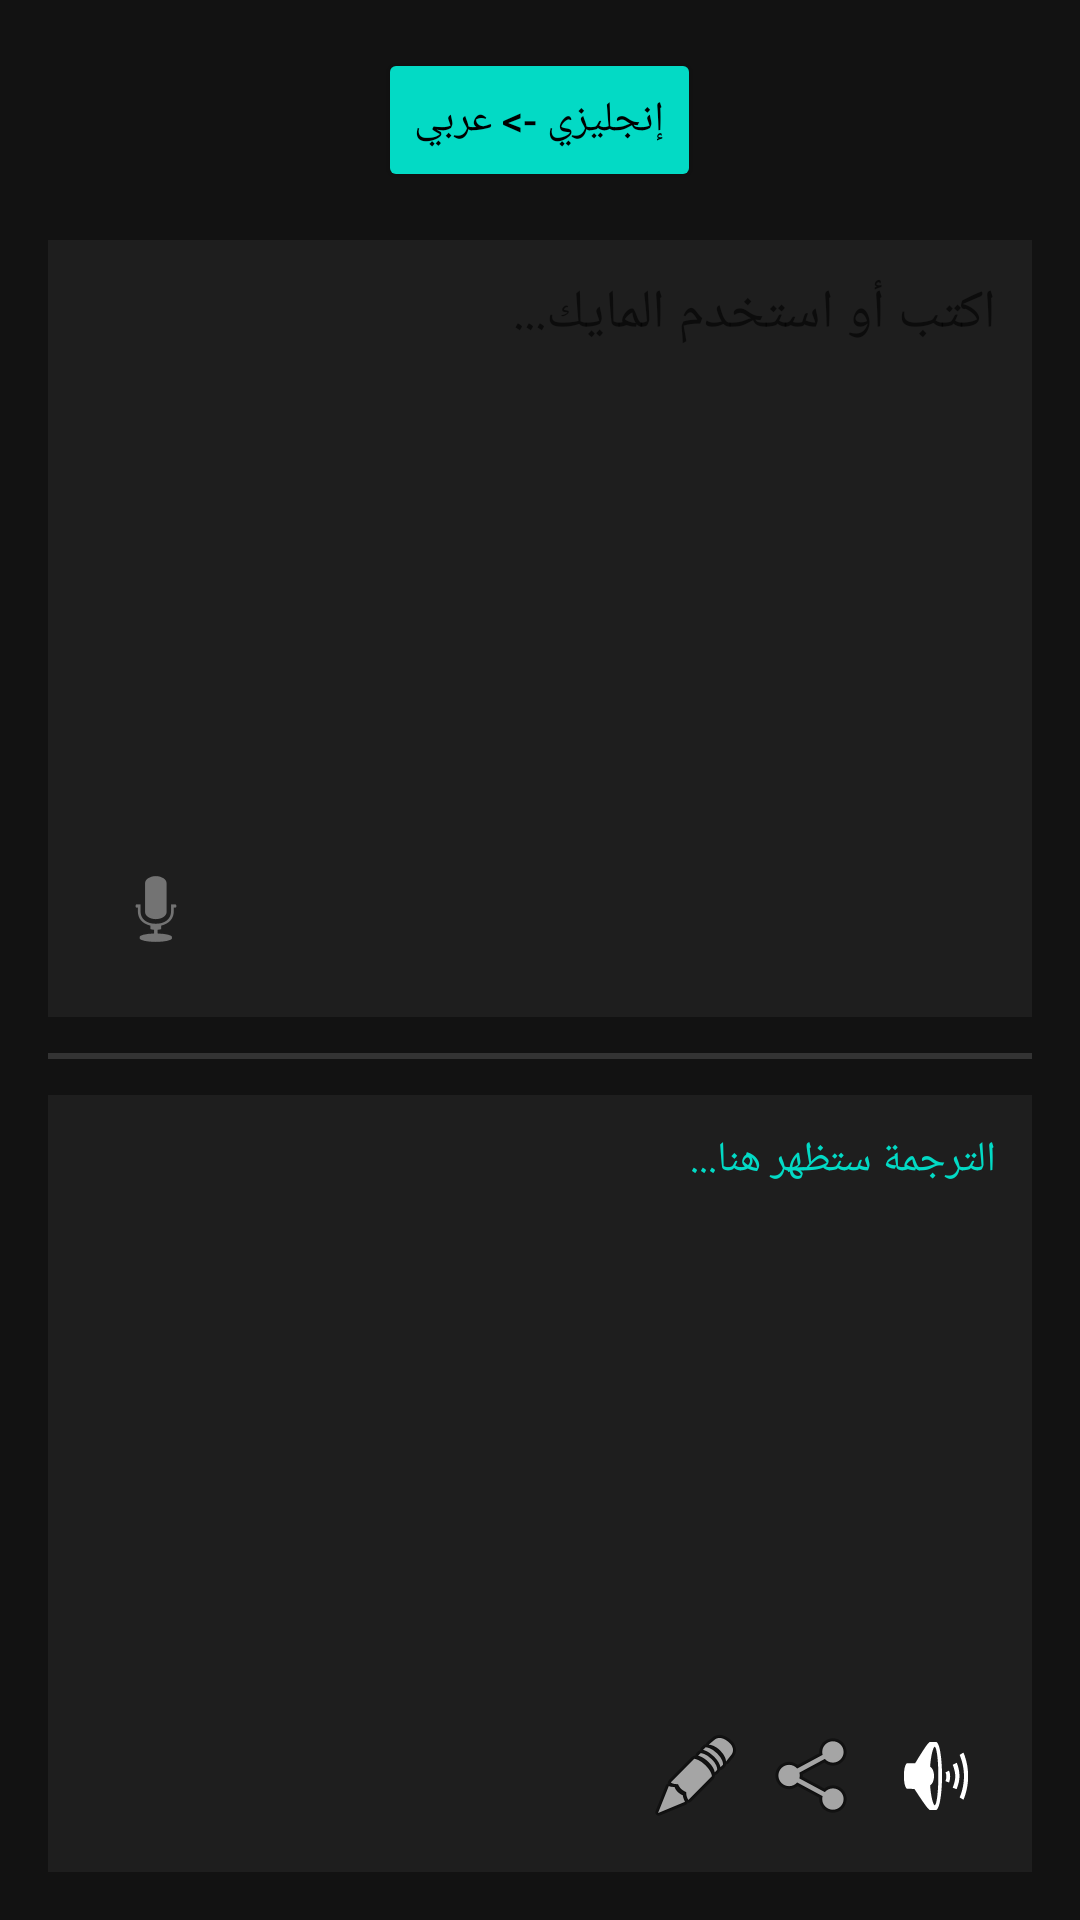

Where icons sit on this 1080w x 1920h app screen, as (x1, y1, x2, y2):
edit: (658, 1738, 733, 1813)
lock silent mode off: (904, 1742, 968, 1810)
share: (778, 1741, 844, 1810)
speak now: (135, 876, 177, 942)
